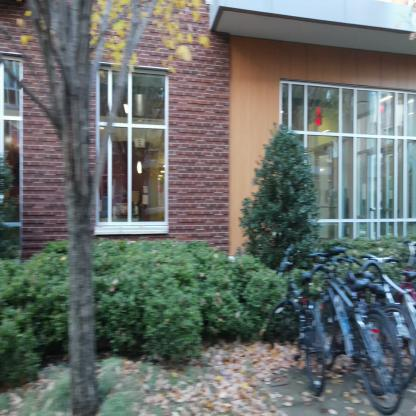Wolf Ridge: (1, 3, 413, 284)
